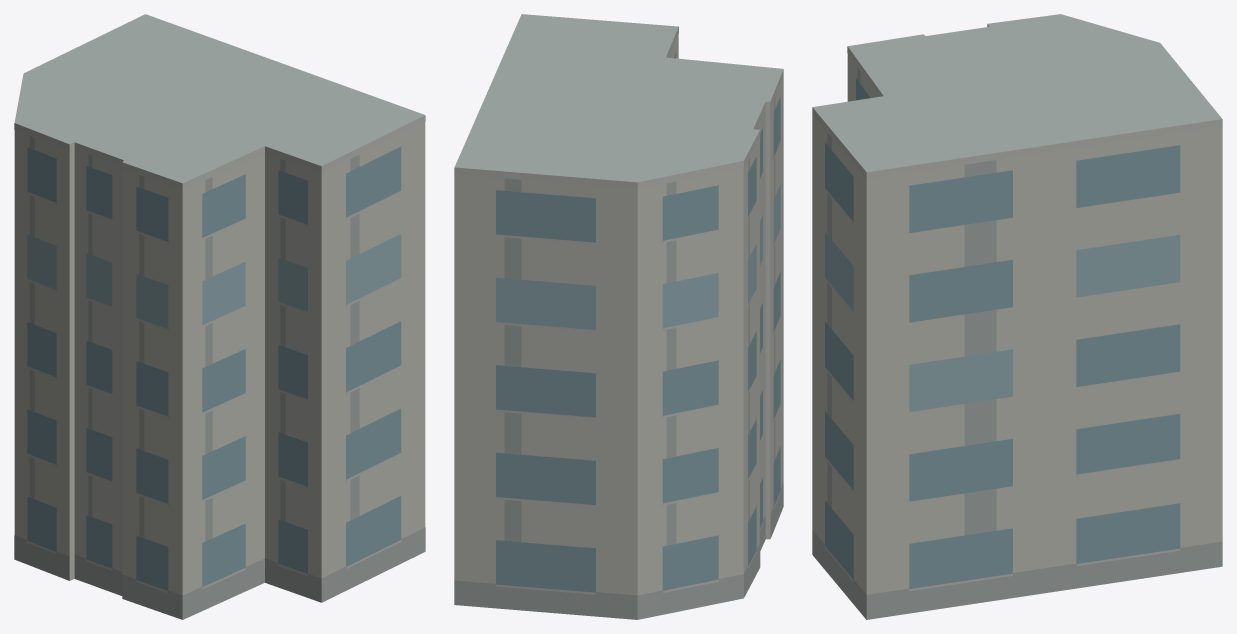
The model's file is survey-upis-33027330.glb.
3 views of the same model, side by side, from view 1: azimuth 30°, elevation 25°; view 2: azimuth 150°, elevation 25°; view 3: azimuth 270°, elevation 25° (orthographic). The views are drawn at different scales.
Visible parts, largest first — view 1: survey-upis-33027330.tmp; view 2: survey-upis-33027330.tmp; view 3: survey-upis-33027330.tmp.
Part boxes in pixels (x1=…): survey-upis-33027330.tmp: x1=14, y1=14, x2=425, y2=619; survey-upis-33027330.tmp: x1=454, y1=14, x2=783, y2=619; survey-upis-33027330.tmp: x1=812, y1=14, x2=1222, y2=619.
Bounding box in the file's own units: 11.57 × 15.25 × 12.67.
